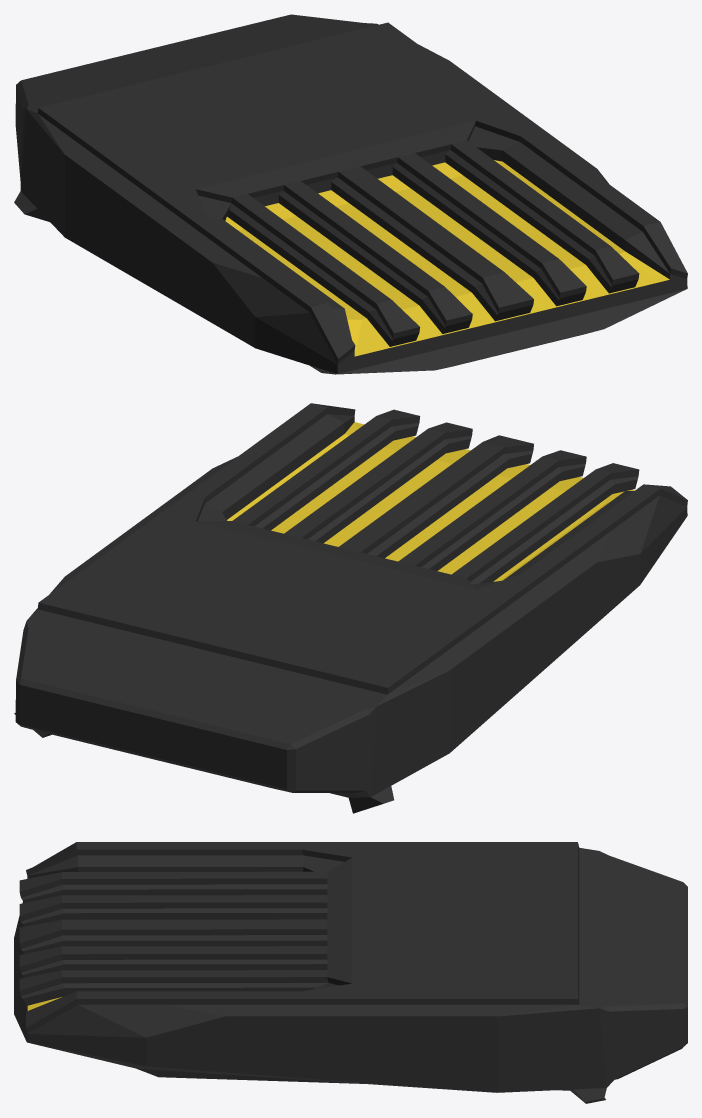
File: メモリー 2.fbx
The picture shows the model from 3 angles, top to bottom: view 1: azimuth 30°, elevation 25°; view 2: azimuth 150°, elevation 25°; view 3: azimuth 270°, elevation 25°; orthographic projection. The views are drawn at different scales.
Parts seen in each view (by area): view 1: 立方体; view 2: 立方体; view 3: 立方体.
Part boxes in pixels (left/top/right/bottom): 立方体: left=14, top=14, right=687, bottom=374; 立方体: left=14, top=403, right=687, bottom=813; 立方体: left=14, top=842, right=687, bottom=1103.
Bounding box in the file's own units: 148 × 45.49 × 244.
